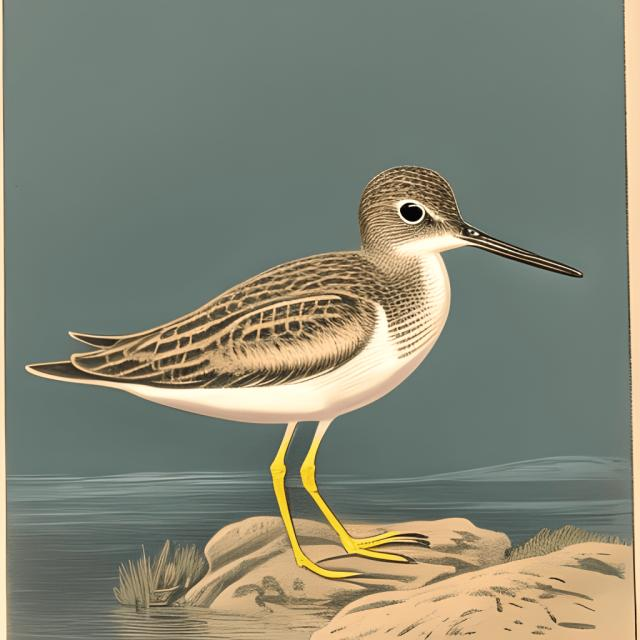Sandpiper: (46, 157, 583, 556)
